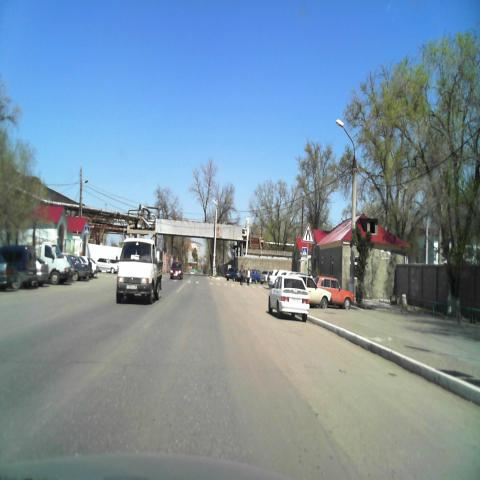1_20: (301, 222, 315, 244)
